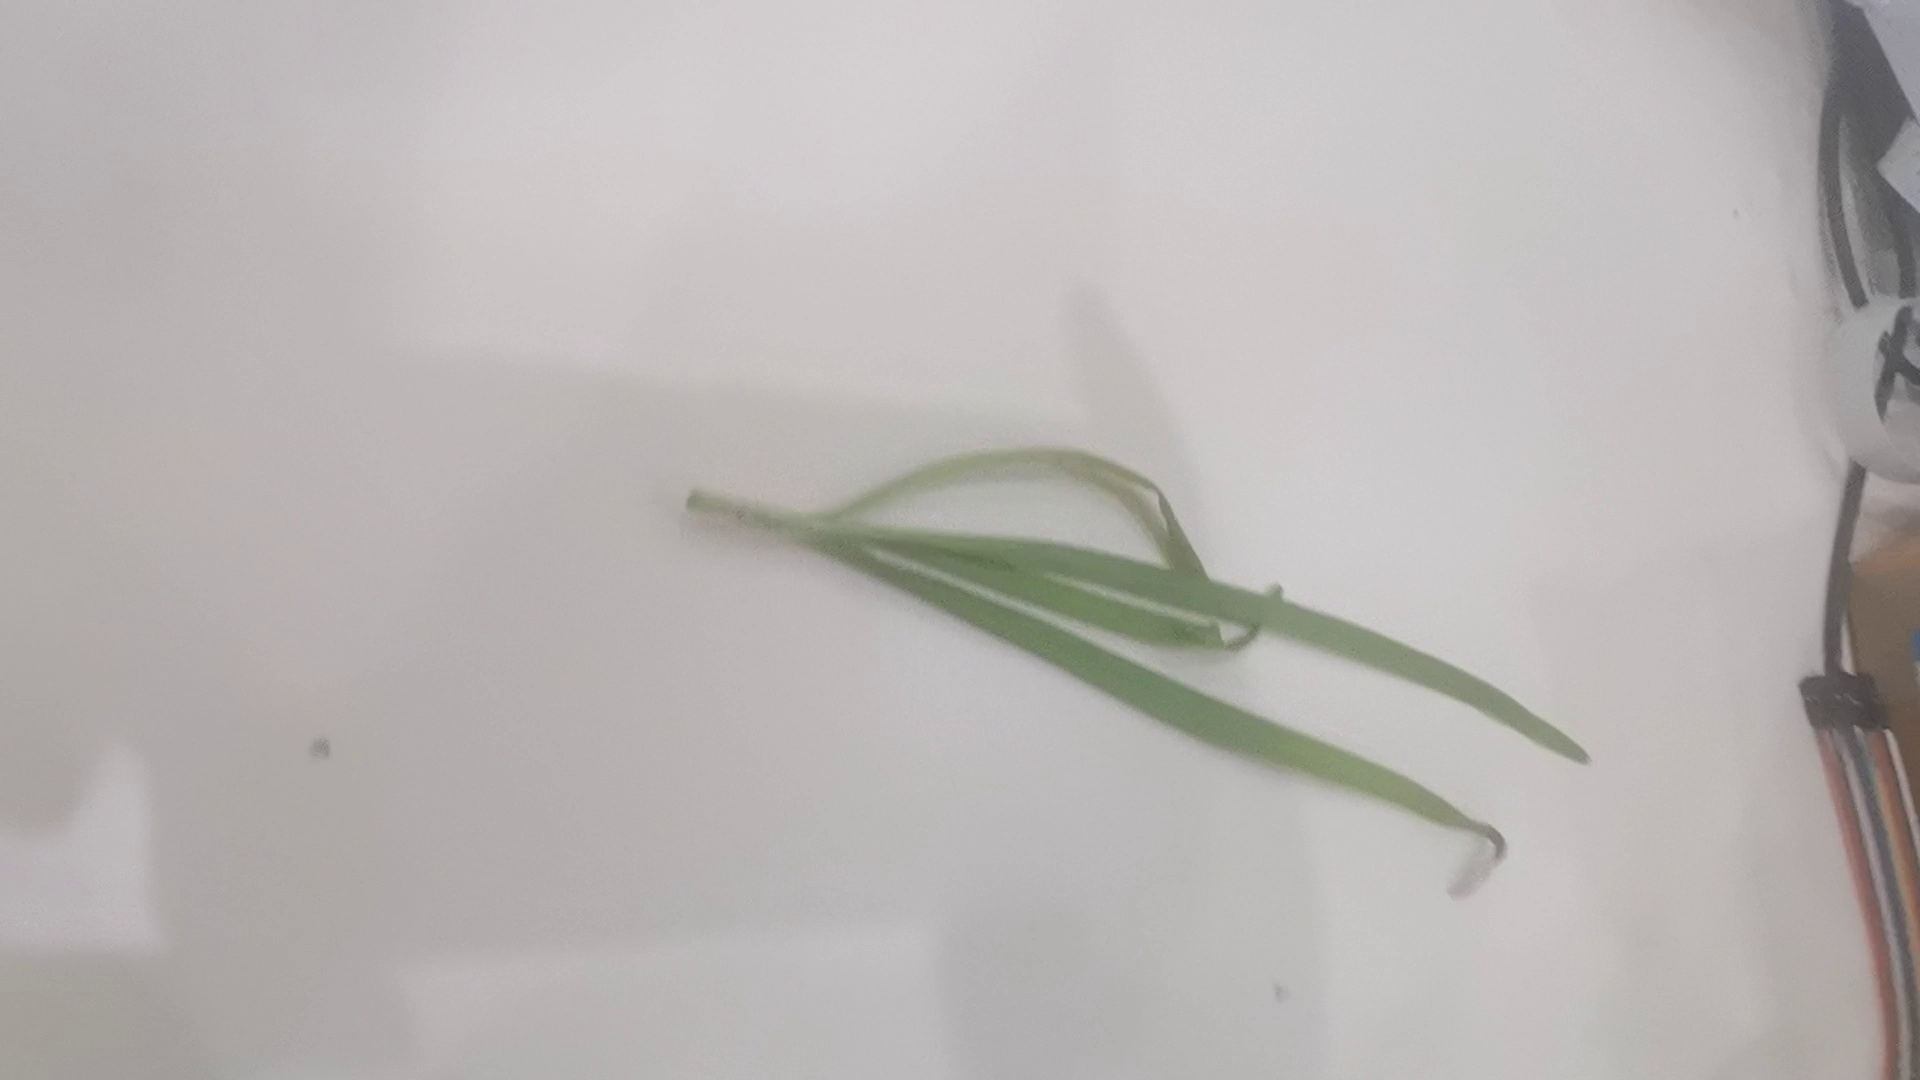chives: (684, 444, 1609, 909)
